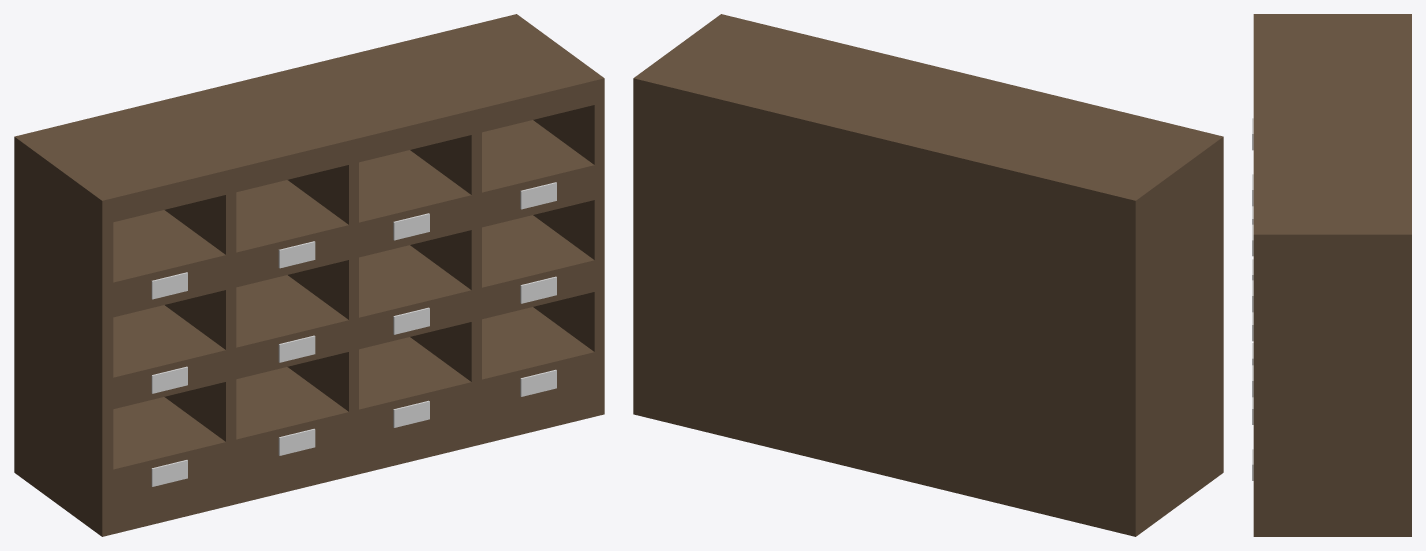
The model's file is SM_Shelve.fbx.
The picture shows the model from 3 angles, left to right: view 1: azimuth 30°, elevation 25°; view 2: azimuth 150°, elevation 25°; view 3: azimuth 270°, elevation 25°; orthographic projection. The views are drawn at different scales.
Parts seen in each view (by area): view 1: Shelve; view 2: Shelve; view 3: Shelve.
Boxes of the visible parts, bbox=[...] form: Shelve: bbox=[14, 14, 604, 536]; Shelve: bbox=[633, 14, 1223, 536]; Shelve: bbox=[1252, 14, 1411, 536].
Size of the model in its own units: 341 by 218 by 104.
